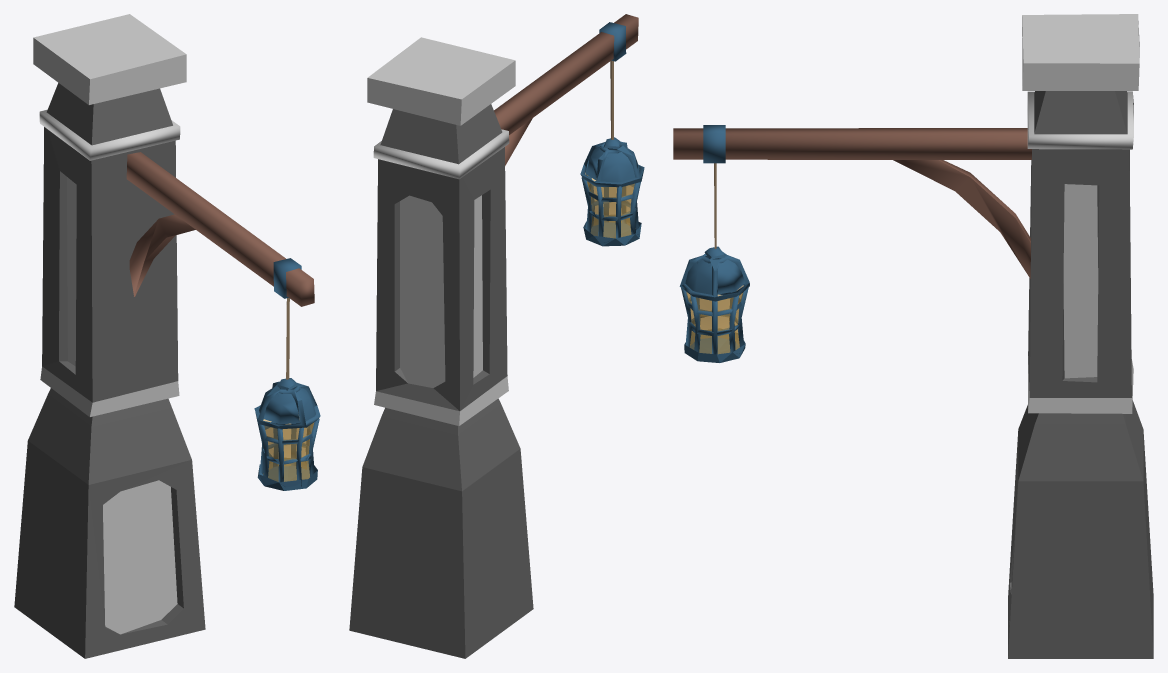
Rendered from StreetOilLight01_LOD_2.fbx.
3 renders of one model, left to right at view 1: azimuth 30°, elevation 25°; view 2: azimuth 150°, elevation 25°; view 3: azimuth 270°, elevation 25°, orthographic. The views are drawn at different scales.
Visible parts, largest first — view 1: street_oil_light; view 2: street_oil_light; view 3: street_oil_light.
Boxes of the visible parts, bbox=[...] form: street_oil_light: bbox=[14, 14, 320, 658]; street_oil_light: bbox=[349, 14, 644, 658]; street_oil_light: bbox=[673, 14, 1153, 658].
Bounding box in the file's own units: 103 × 466 × 344.
